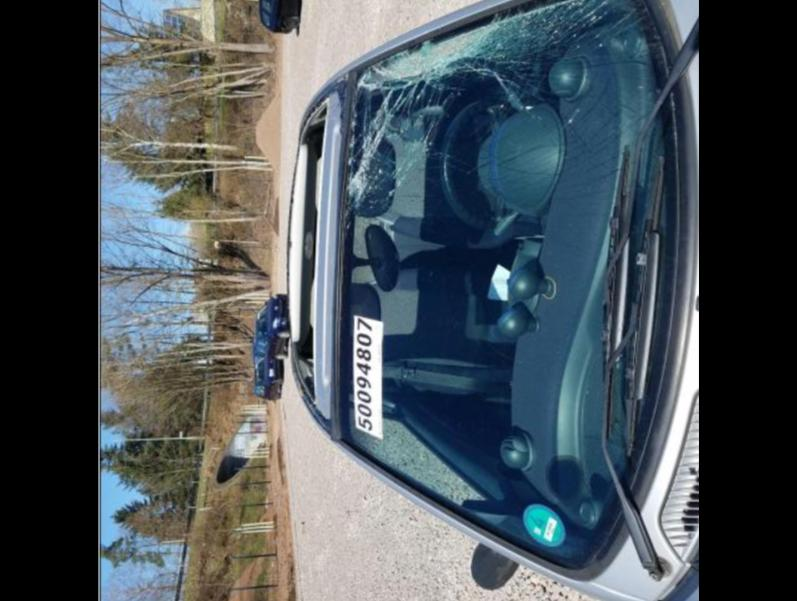Cracked: (344, 0, 676, 569)
Missing part: (291, 92, 331, 411)
